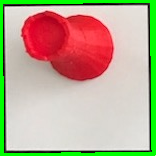Red Castle: (19, 9, 117, 83)
